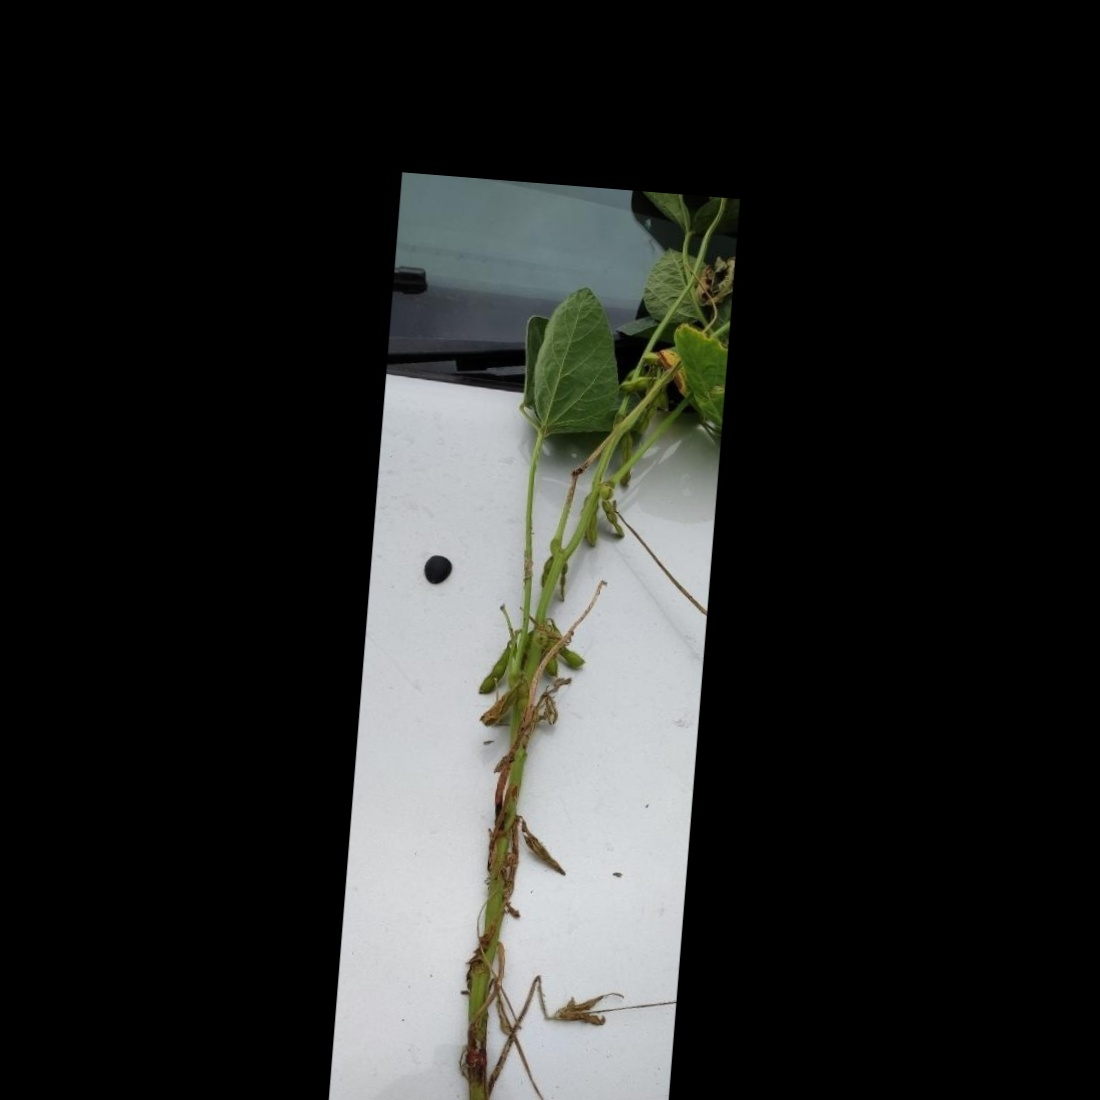pod: (476, 640, 509, 697), (596, 498, 626, 539), (615, 374, 654, 394), (557, 645, 589, 668)
soy: (392, 241, 717, 1100)
